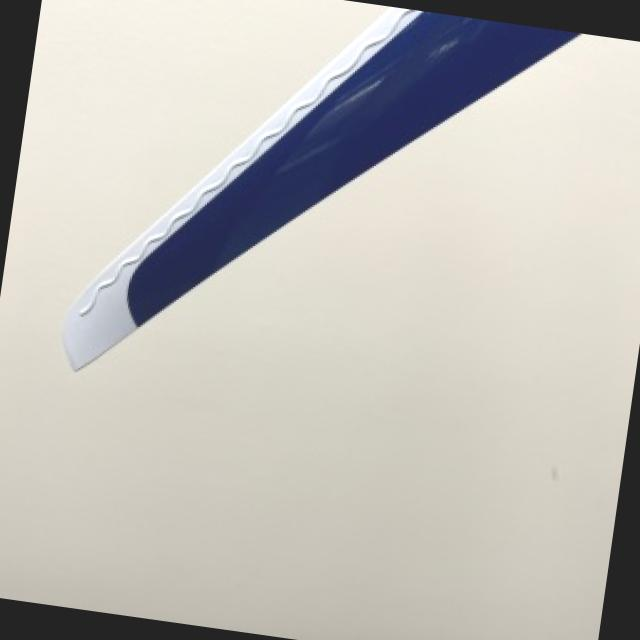healthy: (68, 8, 580, 367)
